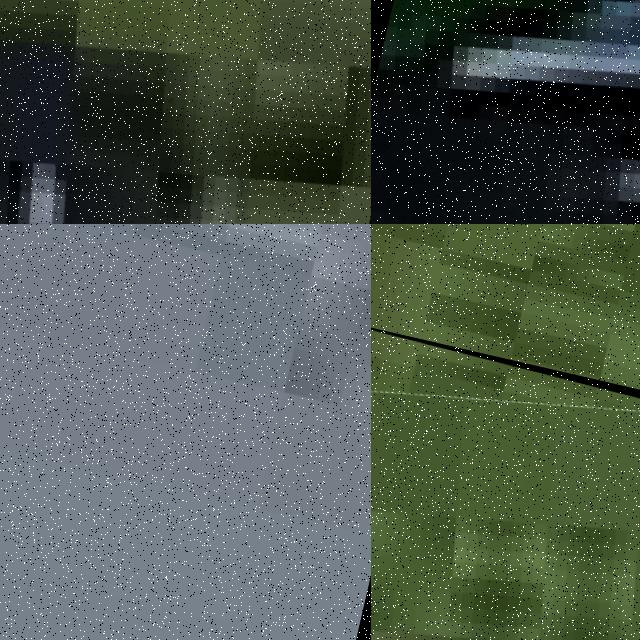drone: (371, 305, 640, 640), (0, 0, 371, 224), (371, 0, 640, 224)
